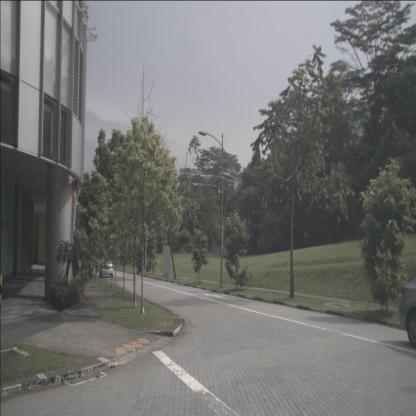vehicle-car: (99, 260, 113, 278)
